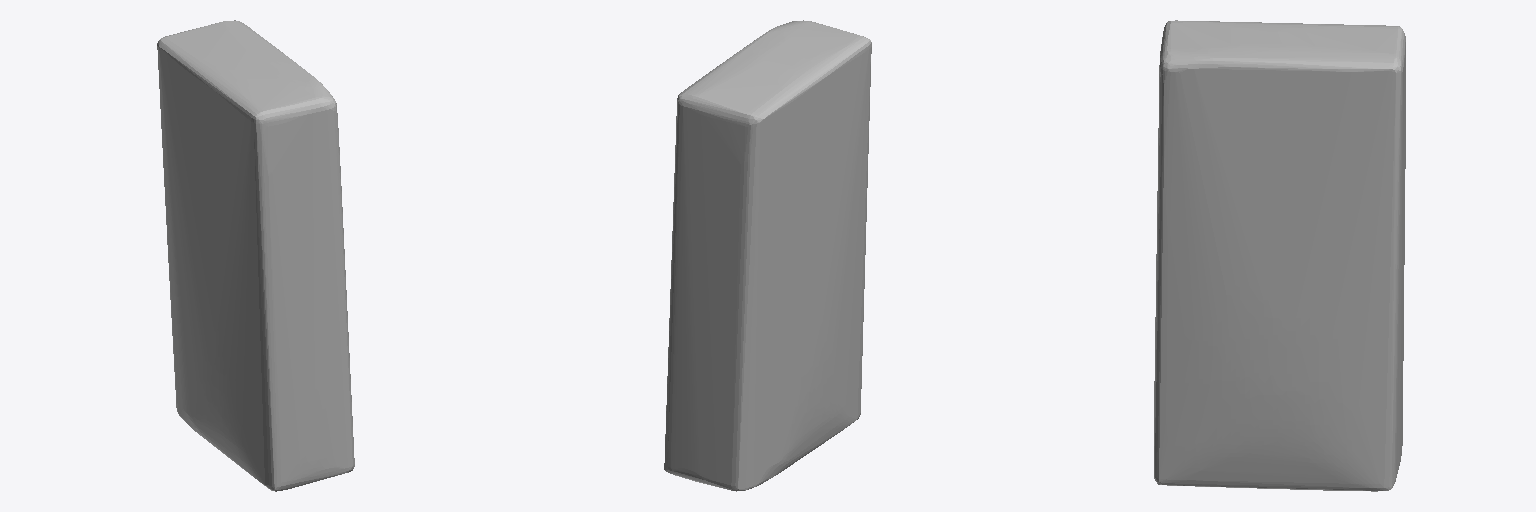
robot.urdf — root:
<robot name="root"><link name="body"><visual>
      <origin xyz="0 0 0" rpy="0 0 0" />
      <geometry>
        <mesh filename="coacd_convex_piece_0.obj" scale="1.0000E+00 1.0000E+00 1.0000E+00" />
      </geometry>
      <material name="">
        <color rgba="7.50E-01 7.50E-01 7.50E-01 1" />
      </material>
    </visual>
    <collision>
      <origin xyz="0 0 0" rpy="0 0 0" />
      <geometry>
        <mesh filename="coacd_convex_piece_0.obj" scale="1.0000E+00 1.0000E+00 1.0000E+00" />
      </geometry>
    </collision>
  </link></robot>

--- Facts derived from the render (not from the file) ---
The picture shows the robot from 3 angles, left to right: view 1: azimuth 30°, elevation 25°; view 2: azimuth 150°, elevation 25°; view 3: azimuth 270°, elevation 25°; orthographic projection.
Model root with 1 links and 0 joints (none), rooted at body, posed all joints at 0.
Links seen in each view (by area): view 1: body; view 2: body; view 3: body.
Link boxes in pixels (box(x1,y1,x2,y2)): body: box(157, 20, 354, 491); body: box(664, 20, 871, 491); body: box(1154, 20, 1405, 491).
Bounding box of the posed robot: 0.4989 × 0.9344 × 1.73 m (x, y, z).
1 mesh visuals loaded from 1 distinct referenced files (1 OBJ).